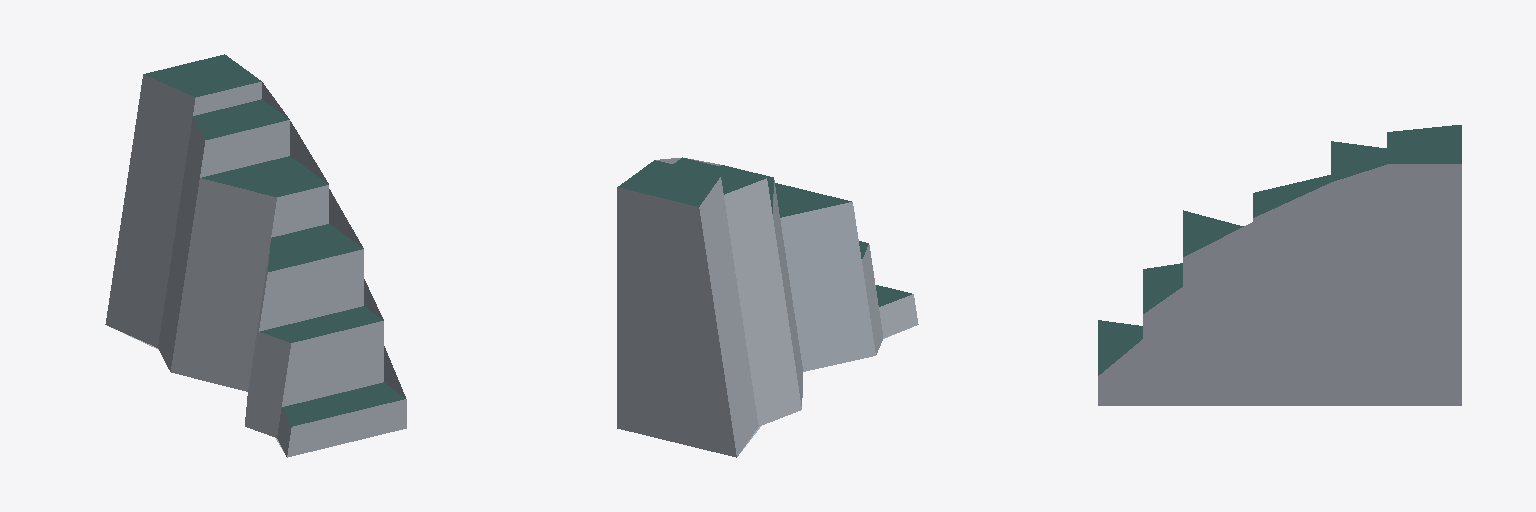
File: Grey_Cliff_End_Green_Top_01.obj
3 renders of one model, left to right at view 1: azimuth 30°, elevation 25°; view 2: azimuth 150°, elevation 25°; view 3: azimuth 270°, elevation 25°, orthographic.
Parts seen in each view (by area): view 1: Mesh1_Grey_Cliff_End_Green_Top_Model; view 2: Mesh1_Grey_Cliff_End_Green_Top_Model; view 3: Mesh1_Grey_Cliff_End_Green_Top_Model.
Boxes of the visible parts, x1=… form: Mesh1_Grey_Cliff_End_Green_Top_Model: x1=105, y1=54, x2=406, y2=457; Mesh1_Grey_Cliff_End_Green_Top_Model: x1=617, y1=157, x2=918, y2=457; Mesh1_Grey_Cliff_End_Green_Top_Model: x1=1098, y1=125, x2=1461, y2=405.
Size of the model in its own units: 1.14 by 2.2 by 3.